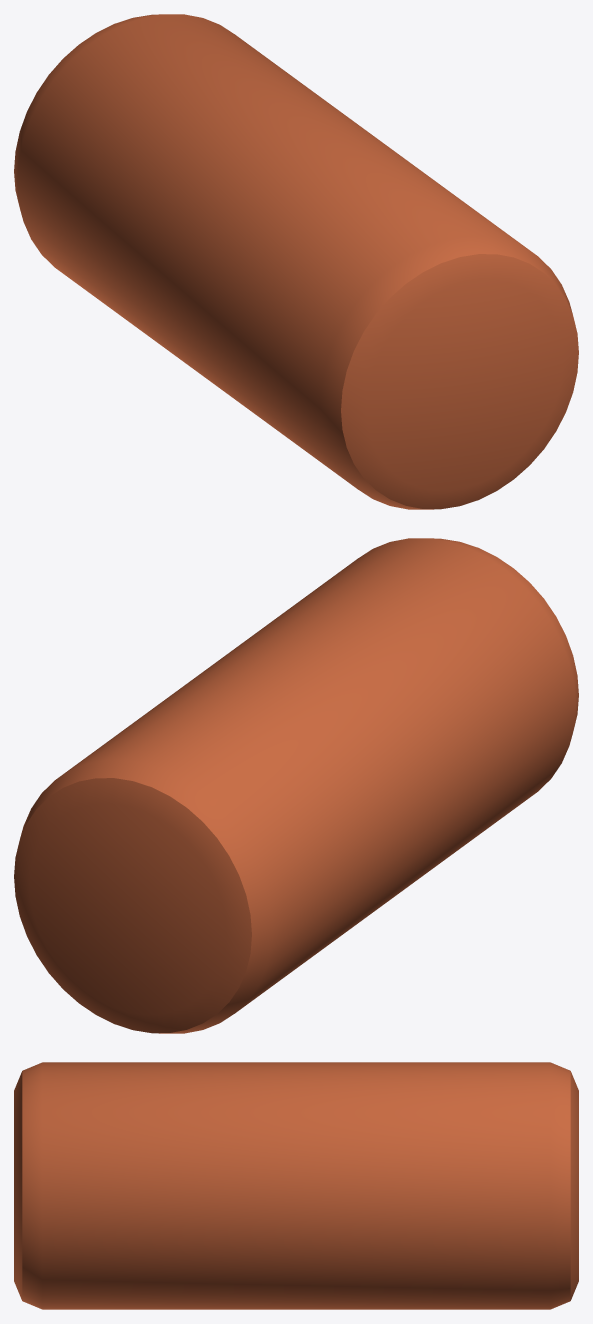
Rendered from nibbler_punch.glb.
3 renders of one model, top to bottom at view 1: azimuth 30°, elevation 25°; view 2: azimuth 150°, elevation 25°; view 3: azimuth 270°, elevation 25°, orthographic. The views are drawn at different scales.
Parts seen in each view (by area): view 1: nibbler_punch; view 2: nibbler_punch; view 3: nibbler_punch.
Boxes of the visible parts, <box> form: nibbler_punch: <box>14,14,578,509</box>; nibbler_punch: <box>14,538,578,1033</box>; nibbler_punch: <box>14,1062,578,1309</box>.
Bounding box in the file's own units: 0.007 × 0.007 × 0.016.
